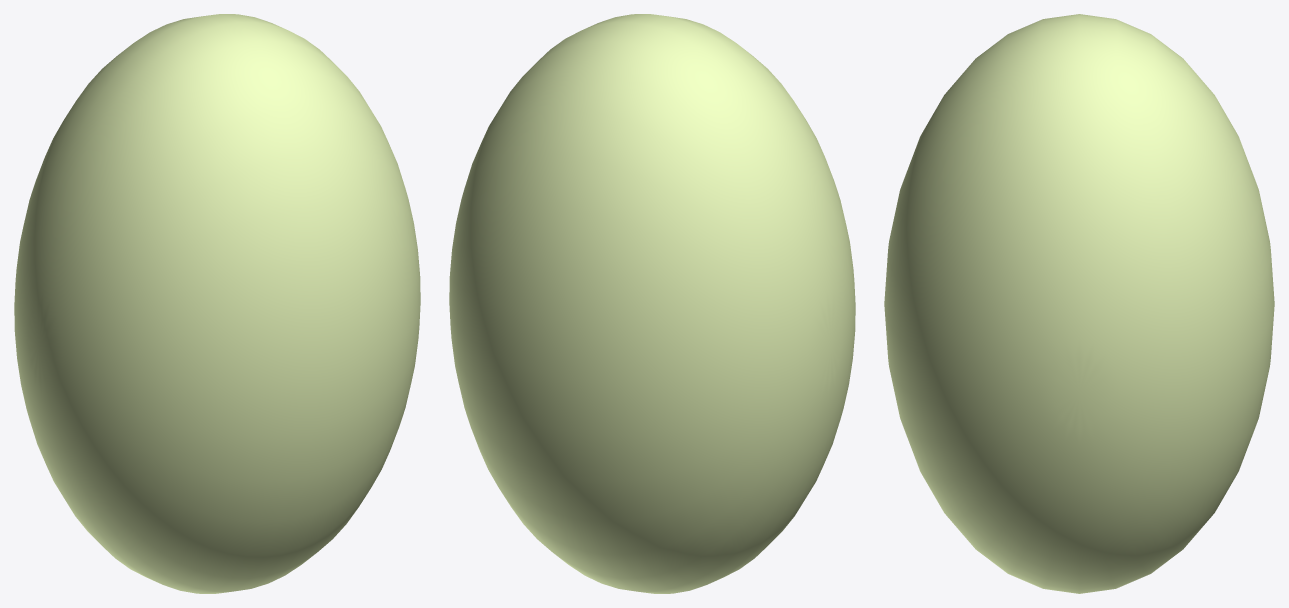
The model's file is SM_Egg.fbx.
3 views of the same model, side by side, from view 1: azimuth 30°, elevation 25°; view 2: azimuth 150°, elevation 25°; view 3: azimuth 270°, elevation 25° (orthographic).
Visible parts, largest first — view 1: Egg; view 2: Egg; view 3: Egg.
Boxes of the visible parts, x1=… form: Egg: x1=14, y1=14, x2=420, y2=593; Egg: x1=449, y1=14, x2=855, y2=593; Egg: x1=884, y1=14, x2=1274, y2=593.
Size of the model in its own units: 73.74 by 110 by 69.83.
